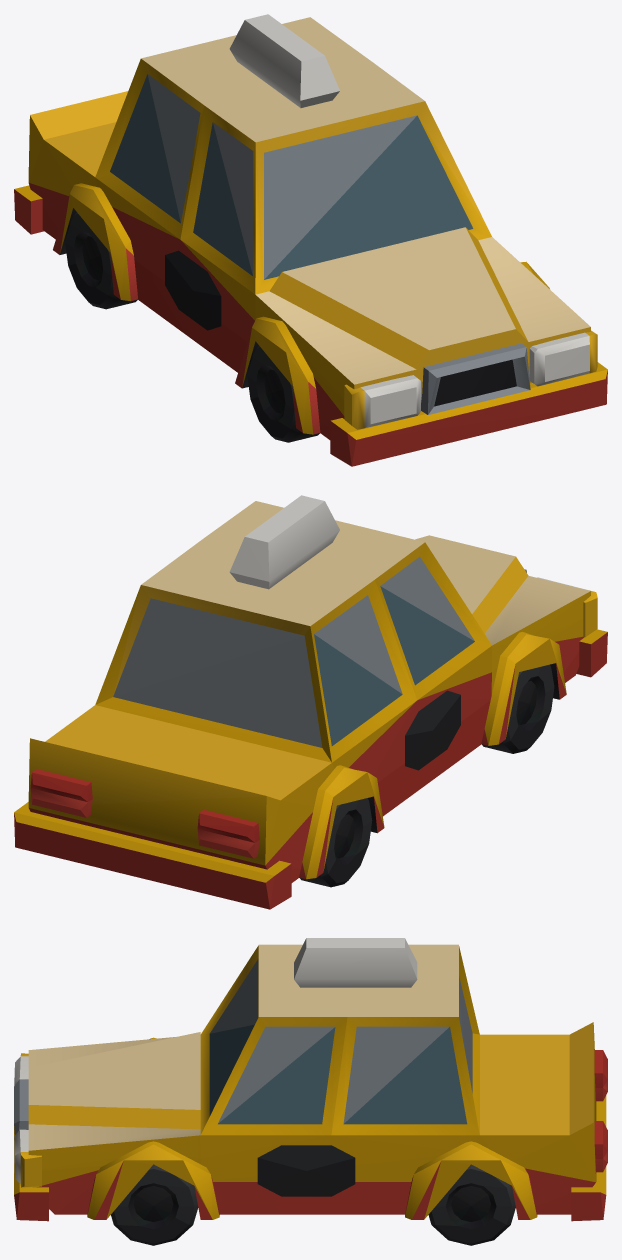
The model's file is taxi.low.752dce5e.glb.
3 views of the same model, one above another, from view 1: azimuth 30°, elevation 25°; view 2: azimuth 150°, elevation 25°; view 3: azimuth 270°, elevation 25° (orthographic). The views are drawn at different scales.
Parts seen in each view (by area): view 1: taxi; view 2: taxi; view 3: taxi.
Boxes of the visible parts, <box> form: taxi: <box>14,14,607,466</box>; taxi: <box>14,495,607,909</box>; taxi: <box>14,938,607,1245</box>.
Size of the model in its own units: 2.19 by 2.27 by 4.9.
